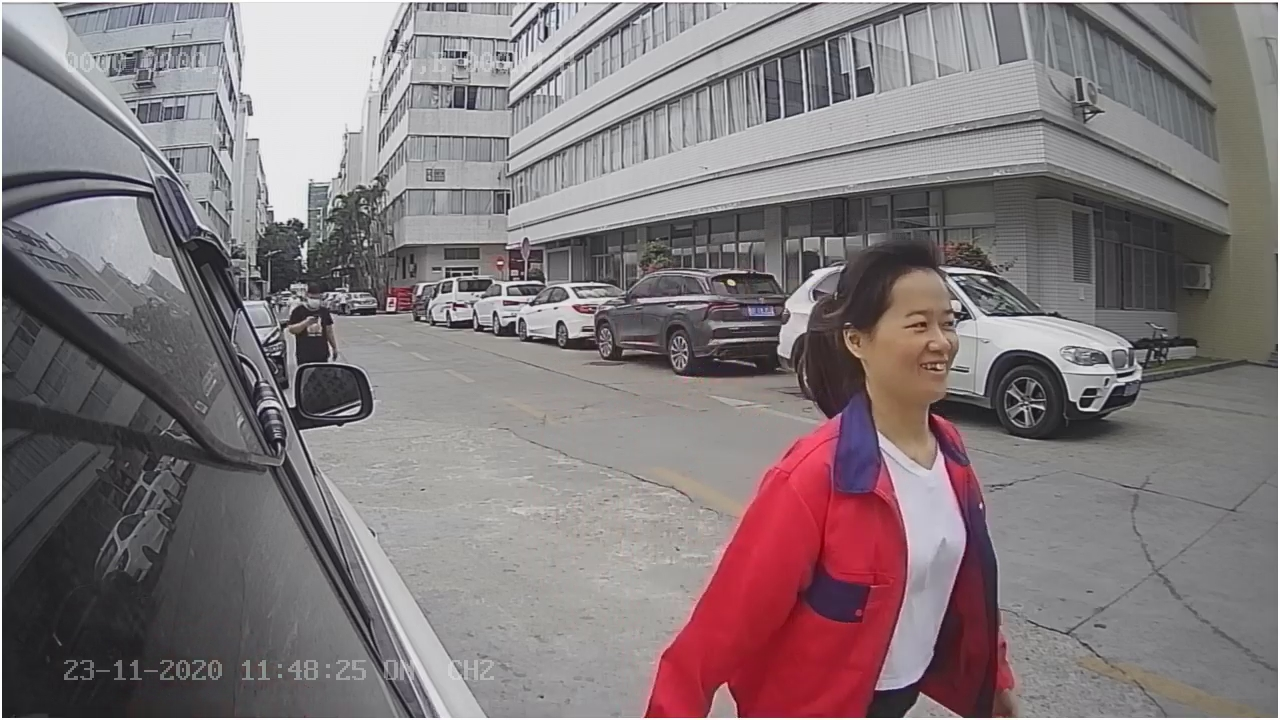person: (723, 226, 1006, 638)
